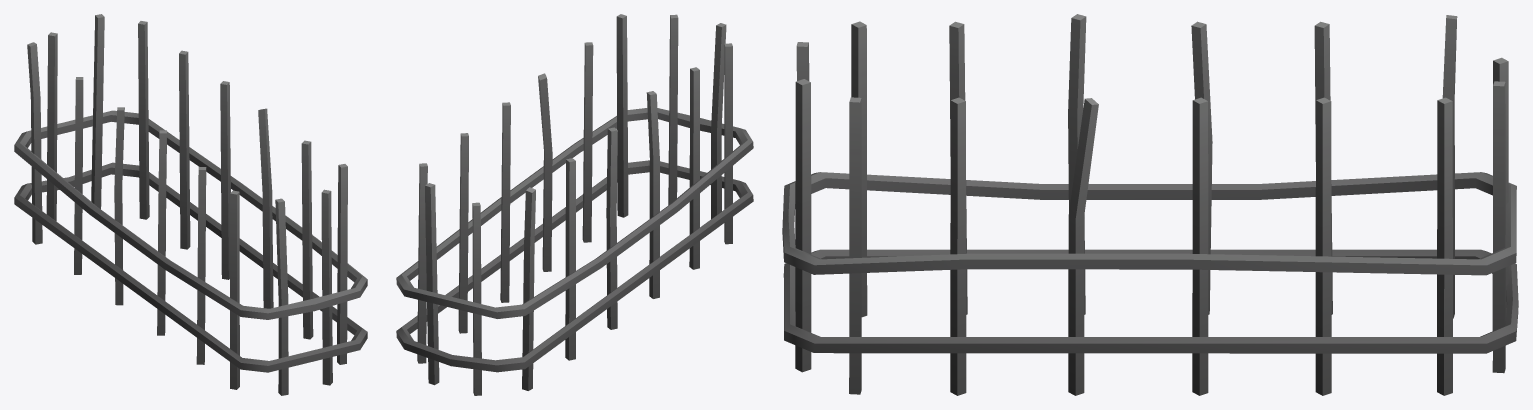
Rendered from RreinforcingBars_B_2_.glb.
The picture shows the model from 3 angles, left to right: view 1: azimuth 30°, elevation 25°; view 2: azimuth 150°, elevation 25°; view 3: azimuth 270°, elevation 25°; orthographic projection. The views are drawn at different scales.
Parts seen in each view (by area): view 1: RreinforcingBars_B_2; view 2: RreinforcingBars_B_2; view 3: RreinforcingBars_B_2.
Boxes of the visible parts, box(x1,y1,x2,y2) form: RreinforcingBars_B_2: box(14, 14, 367, 395); RreinforcingBars_B_2: box(396, 14, 753, 395); RreinforcingBars_B_2: box(782, 14, 1518, 395).
Size of the model in its own units: 0.4253 by 0.6427 by 1.43.
1 material, 1 textured.
